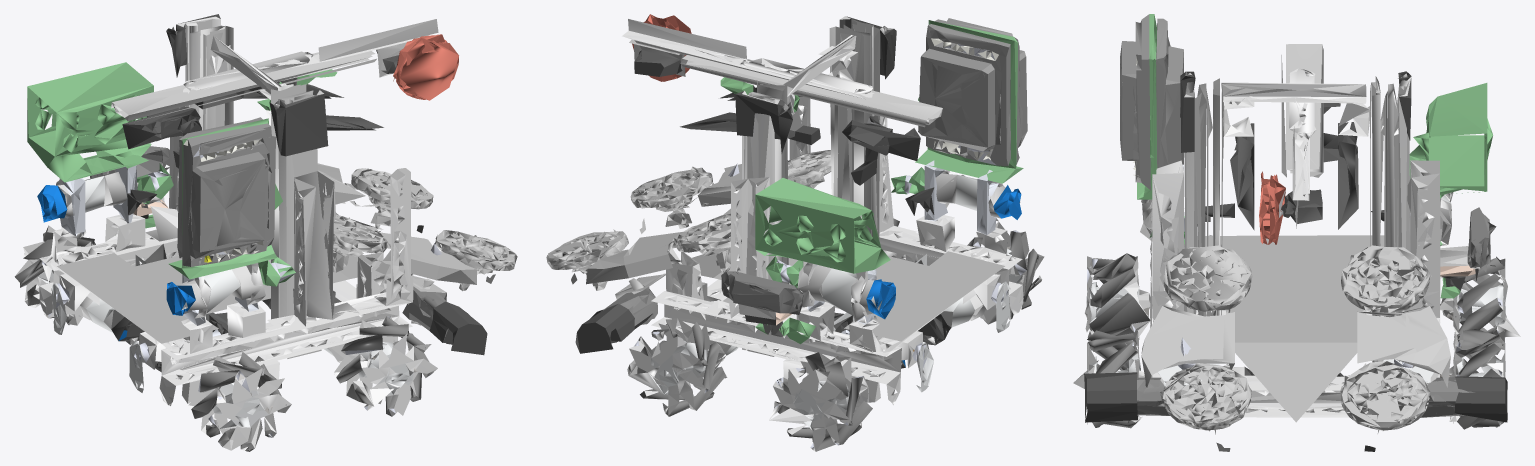
Rendered from loki1.glb.
3 views of the same model, side by side, from view 1: azimuth 30°, elevation 25°; view 2: azimuth 150°, elevation 25°; view 3: azimuth 270°, elevation 25° (orthographic). The views are drawn at different scales.
Visible parts, largest first — view 1: Body1.586; view 2: Body1.586; view 3: Body1.586.
Part boxes in pixels (x1,y1,x2,y2): Body1.586: (14,14,517,451); Body1.586: (546,14,1044,451); Body1.586: (1073,14,1520,451).
Bounding box in the file's own units: 45.1 × 35.4 × 44.72.
